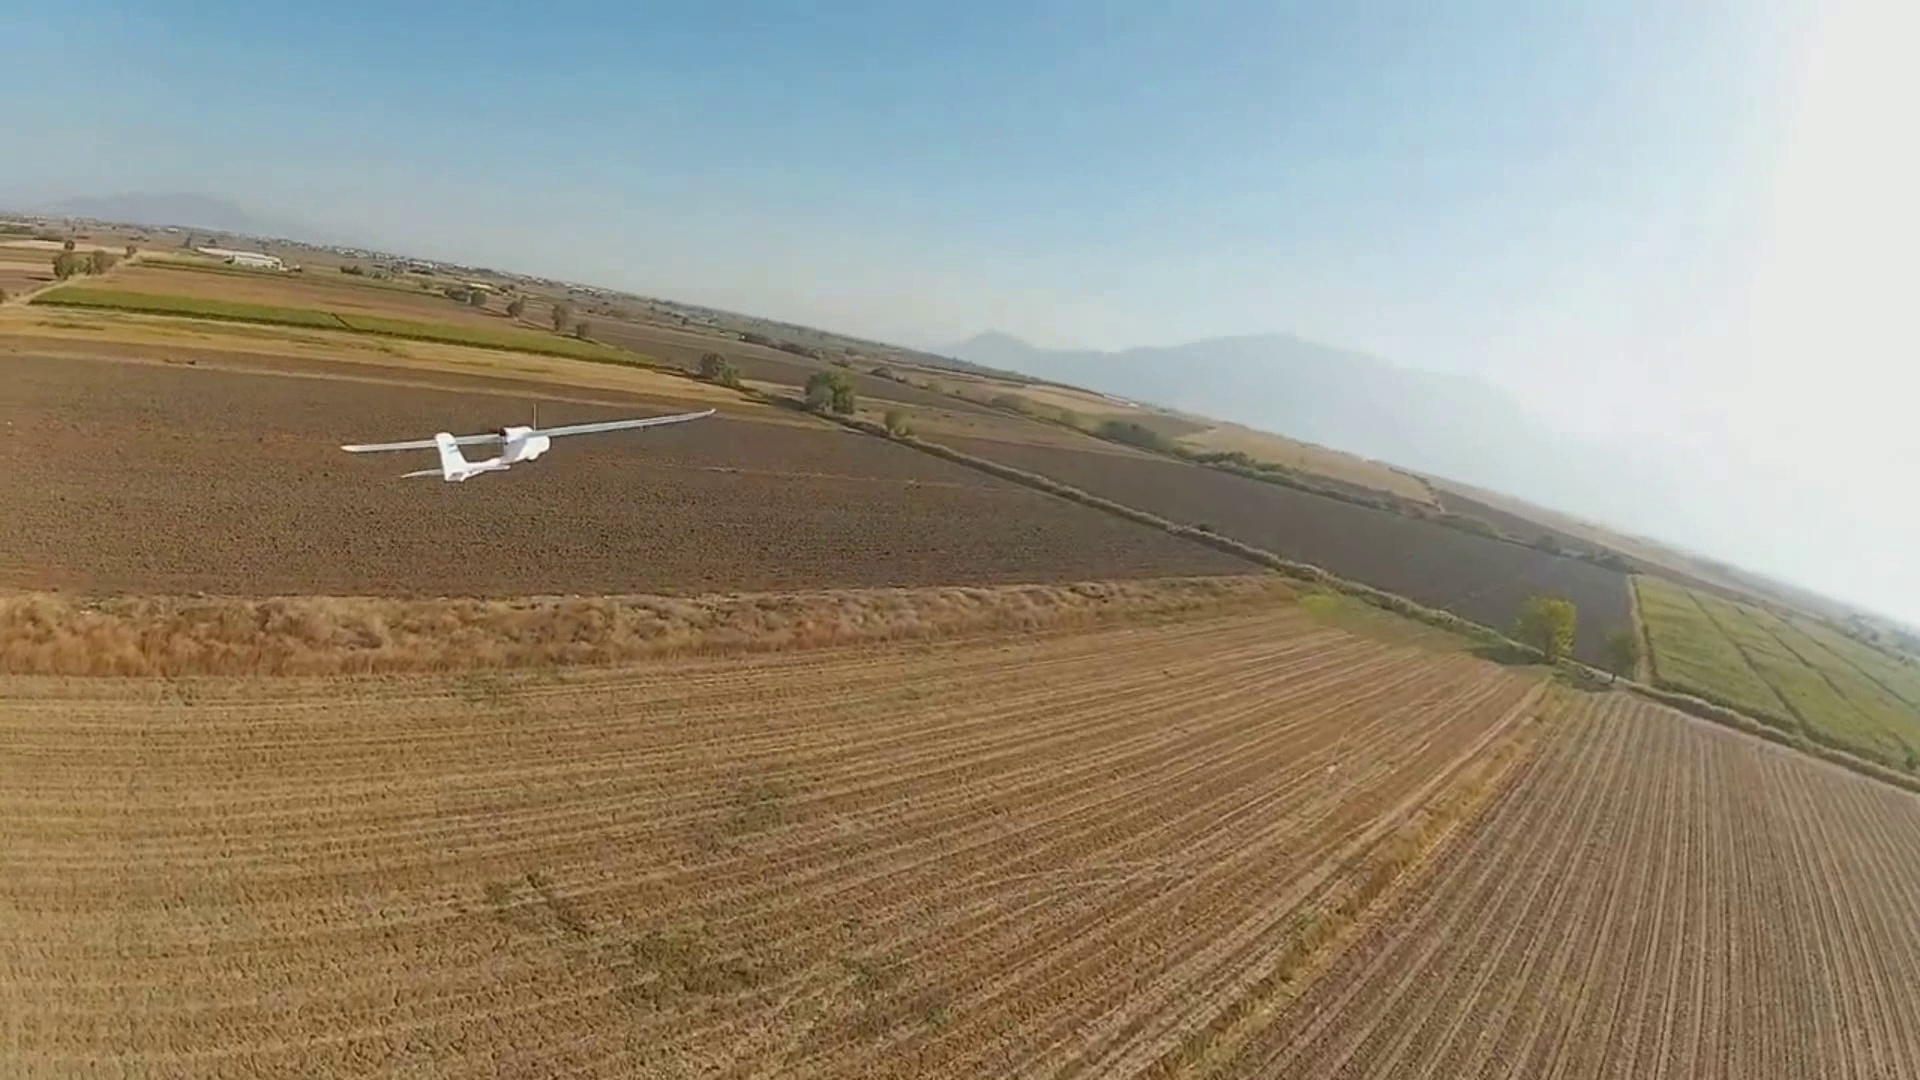airplane: (334, 410, 717, 481), (338, 421, 551, 481)
